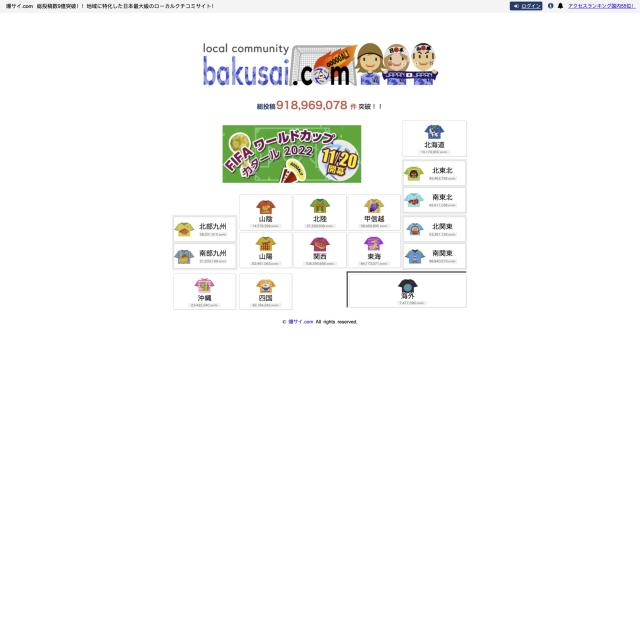logo: (197, 38, 442, 91)
